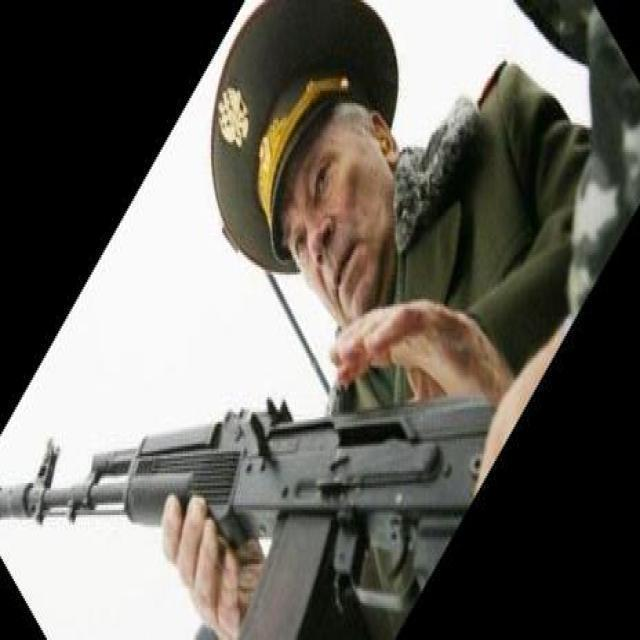Rifle: (0, 395, 495, 640)
